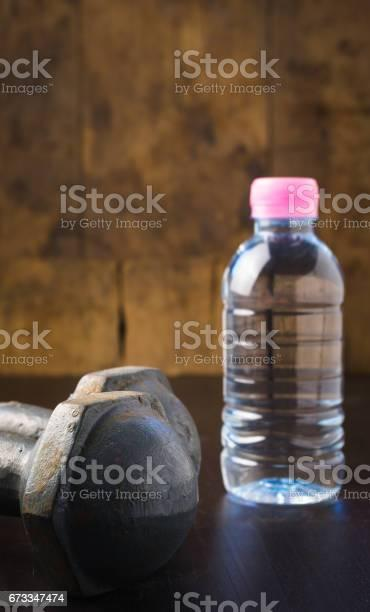bottle: (213, 170, 362, 512)
